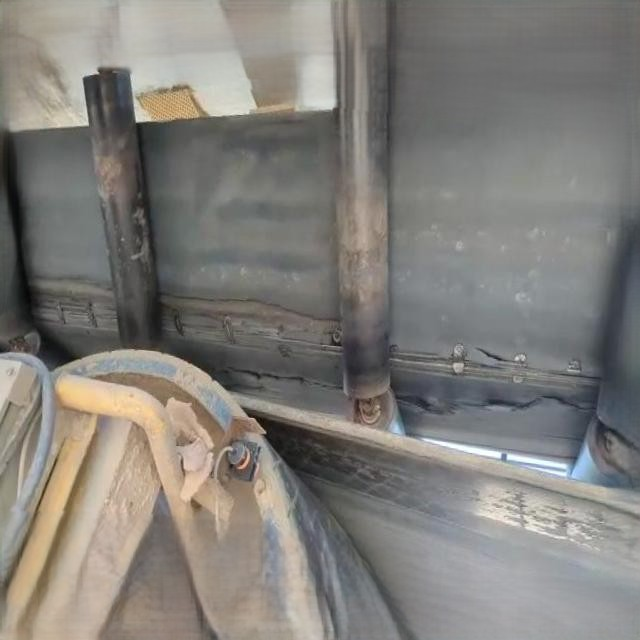Tear: (156, 278, 349, 354), (383, 378, 592, 426), (14, 266, 124, 324), (466, 331, 528, 372)
